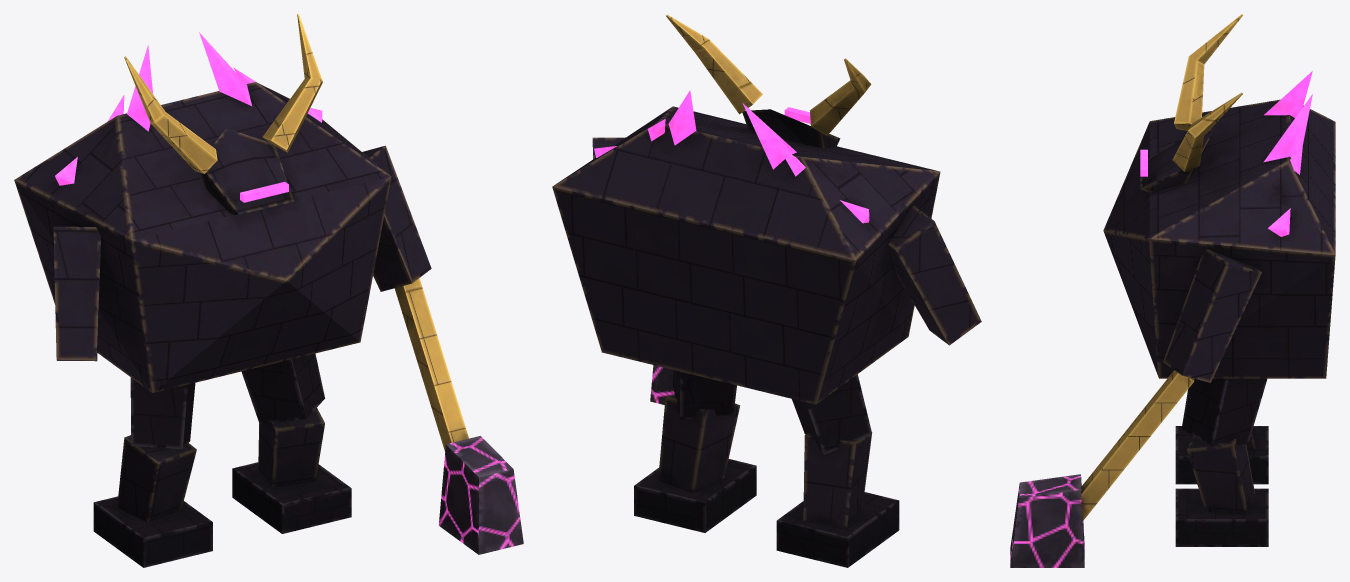
The model's file is e_behemoth.glb.
3 views of the same model, side by side, from view 1: azimuth 30°, elevation 25°; view 2: azimuth 150°, elevation 25°; view 3: azimuth 270°, elevation 25° (orthographic). The views are drawn at different scales.
Parts seen in each view (by area): view 1: e_behemoth; view 2: e_behemoth; view 3: e_behemoth.
Boxes of the visible parts, <box> form: e_behemoth: <box>14,14,523,567</box>; e_behemoth: <box>552,14,981,567</box>; e_behemoth: <box>1010,14,1335,567</box>.
Size of the model in its own units: 2.16 by 2.65 by 1.75.
Materials: 1 (1 with a texture image).
